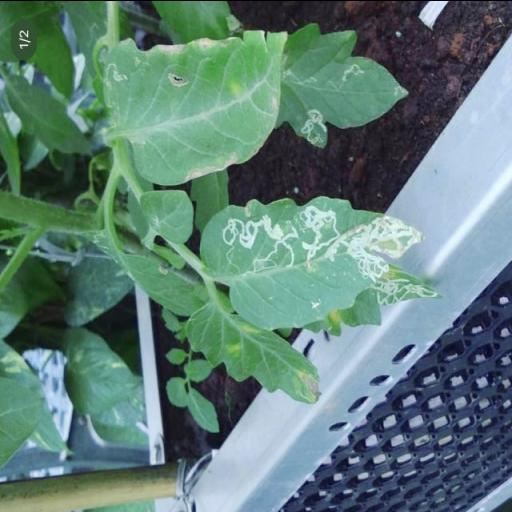Leaf Miner: (200, 192, 426, 332), (278, 20, 408, 144)
